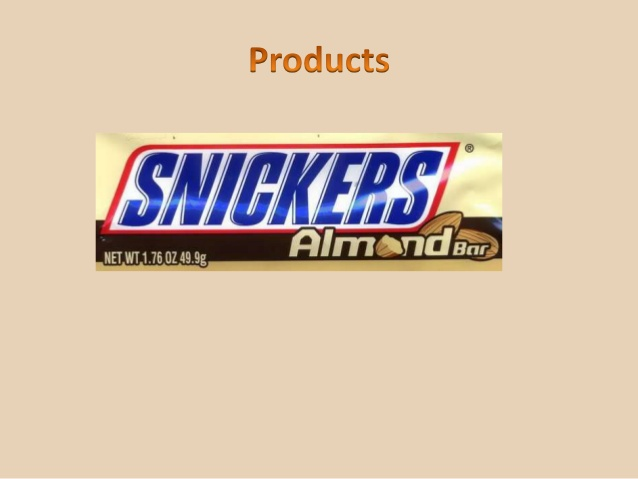snickers: (114, 148, 441, 226)
